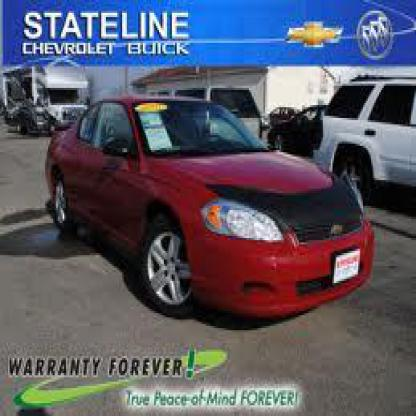Vehicle: (45, 92, 379, 326)
